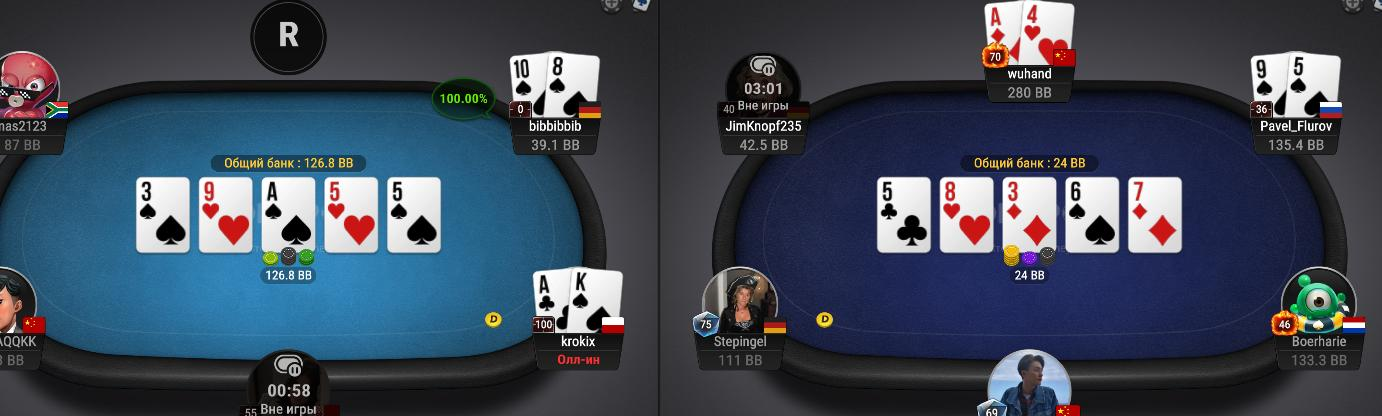10s: (511, 55, 547, 117)
3d: (1003, 179, 1057, 249)
3s: (137, 178, 189, 253)
4h: (1022, 2, 1075, 66)
5c: (878, 177, 930, 253)
5h: (326, 177, 378, 253)
5s: (388, 177, 440, 253), (1287, 51, 1341, 119)
6s: (1066, 179, 1119, 253)
7d: (1128, 179, 1180, 253)
8h: (939, 178, 993, 252)
8s: (547, 50, 600, 119)
9h: (200, 177, 253, 253)
9s: (1251, 54, 1289, 116)
Ac: (534, 270, 571, 332)
Ad: (985, 1, 1022, 66)
As: (262, 179, 315, 247)
Ks: (570, 267, 622, 334)
